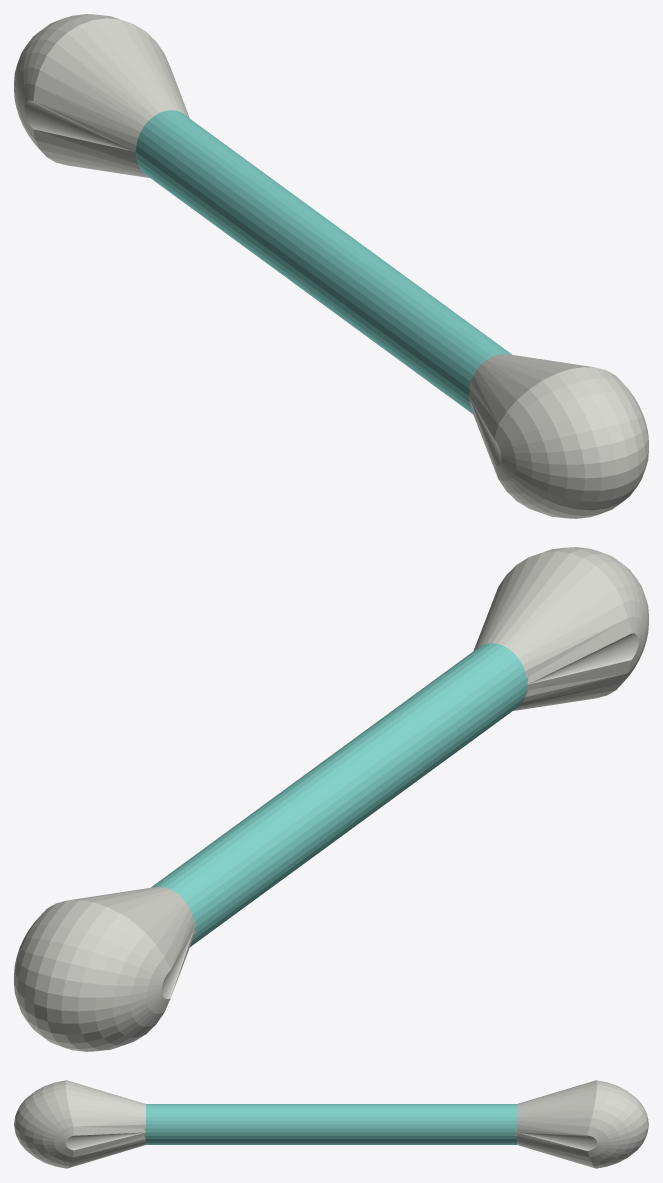
File: qtip.dae
3 renders of one model, top to bottom at view 1: azimuth 30°, elevation 25°; view 2: azimuth 150°, elevation 25°; view 3: azimuth 270°, elevation 25°, orthographic. The views are drawn at different scales.
Parts seen in each view (by area): view 1: Sphere; view 2: Sphere; view 3: Sphere.
Boxes of the visible parts, bbox=[...] form: Sphere: bbox=[14, 14, 648, 518]; Sphere: bbox=[14, 547, 648, 1051]; Sphere: bbox=[14, 1080, 648, 1168].
Size of the model in its own units: 0.2841 by 2.04 by 0.2841.
